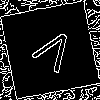V: (25, 25, 79, 83)
